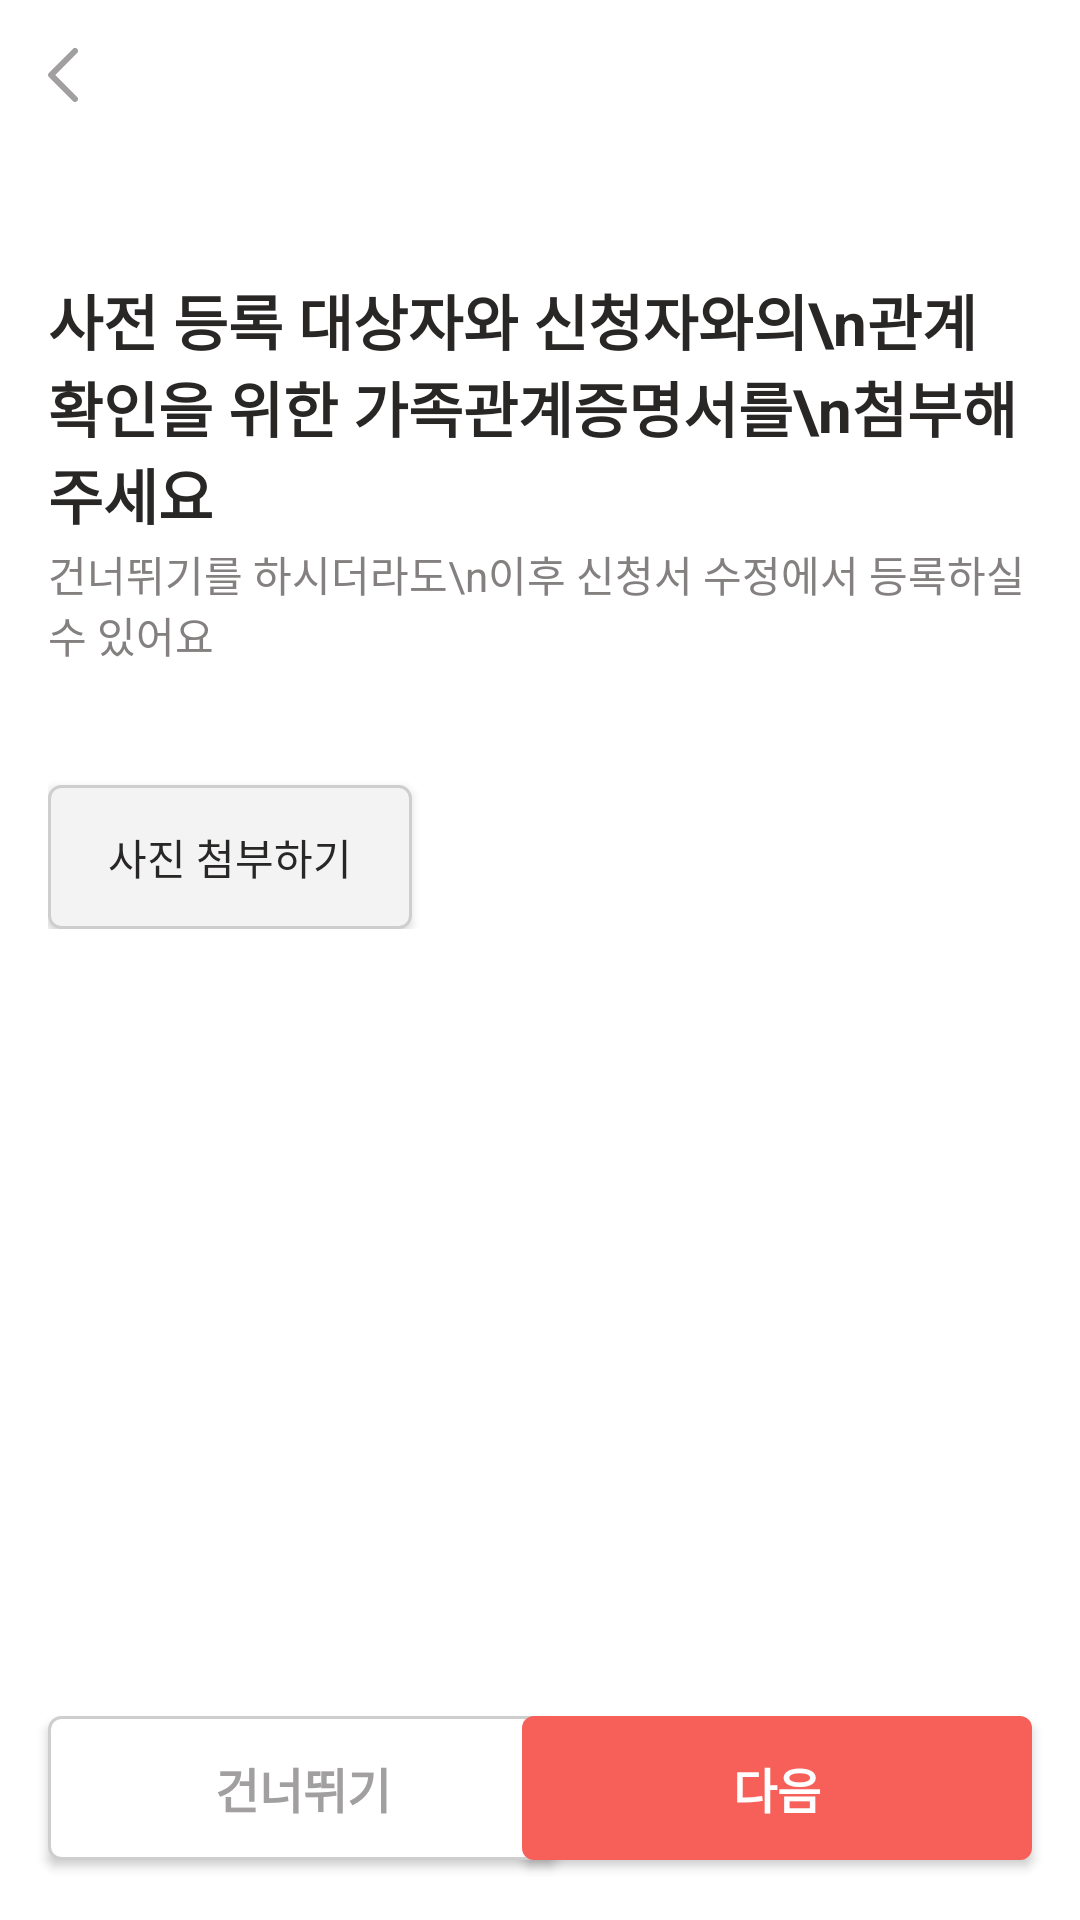

Icons on this 1080×1920 Android screen, each with the point to tap as (x,y):
back: (63,75)
